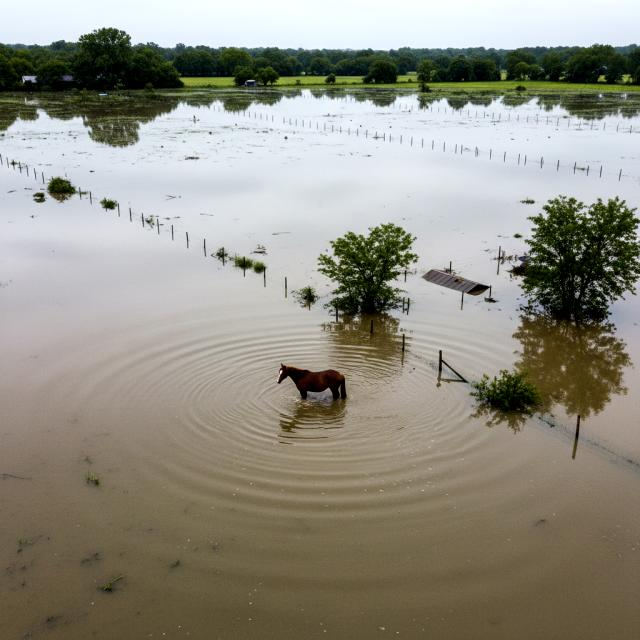horse: (271, 353, 356, 412)
